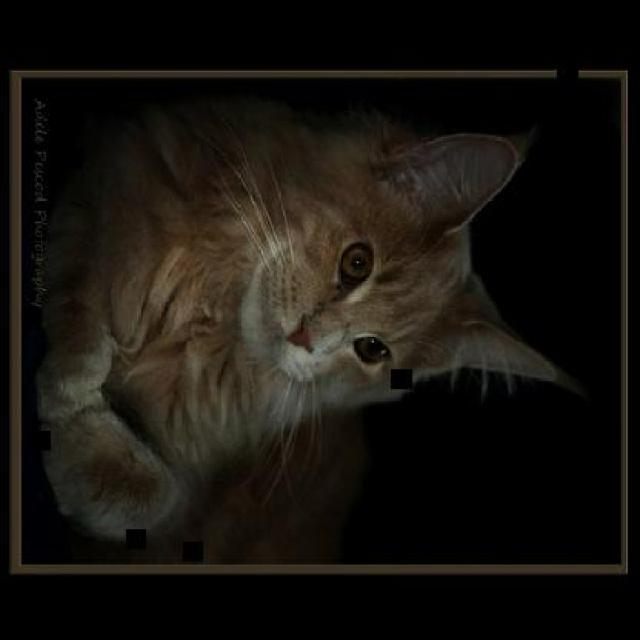unauthorized: (34, 93, 581, 544)
